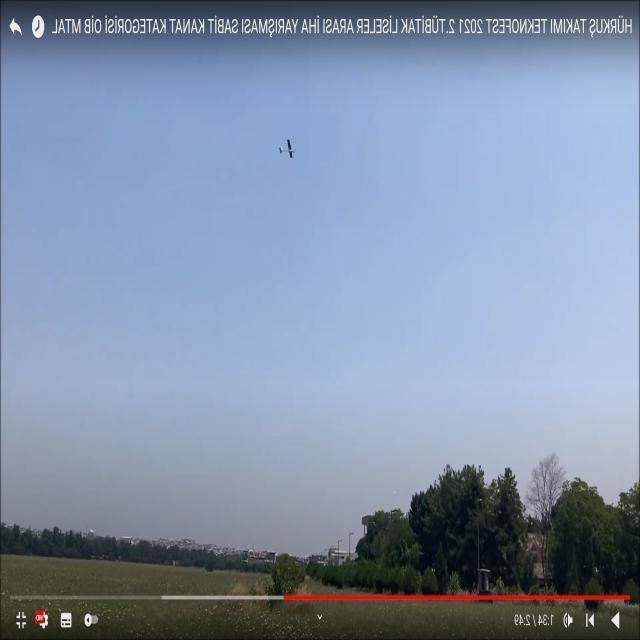iha: (258, 124, 296, 184)
